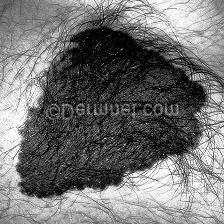Potentially Malignant Skin Tumors: (14, 118, 201, 200), (40, 27, 208, 101)
